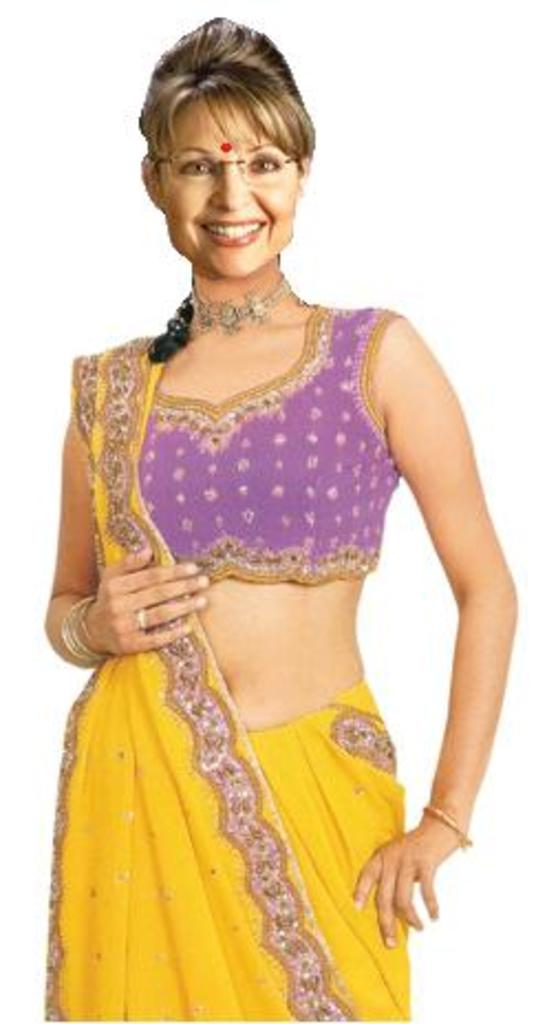Person: (42, 14, 518, 1022)
